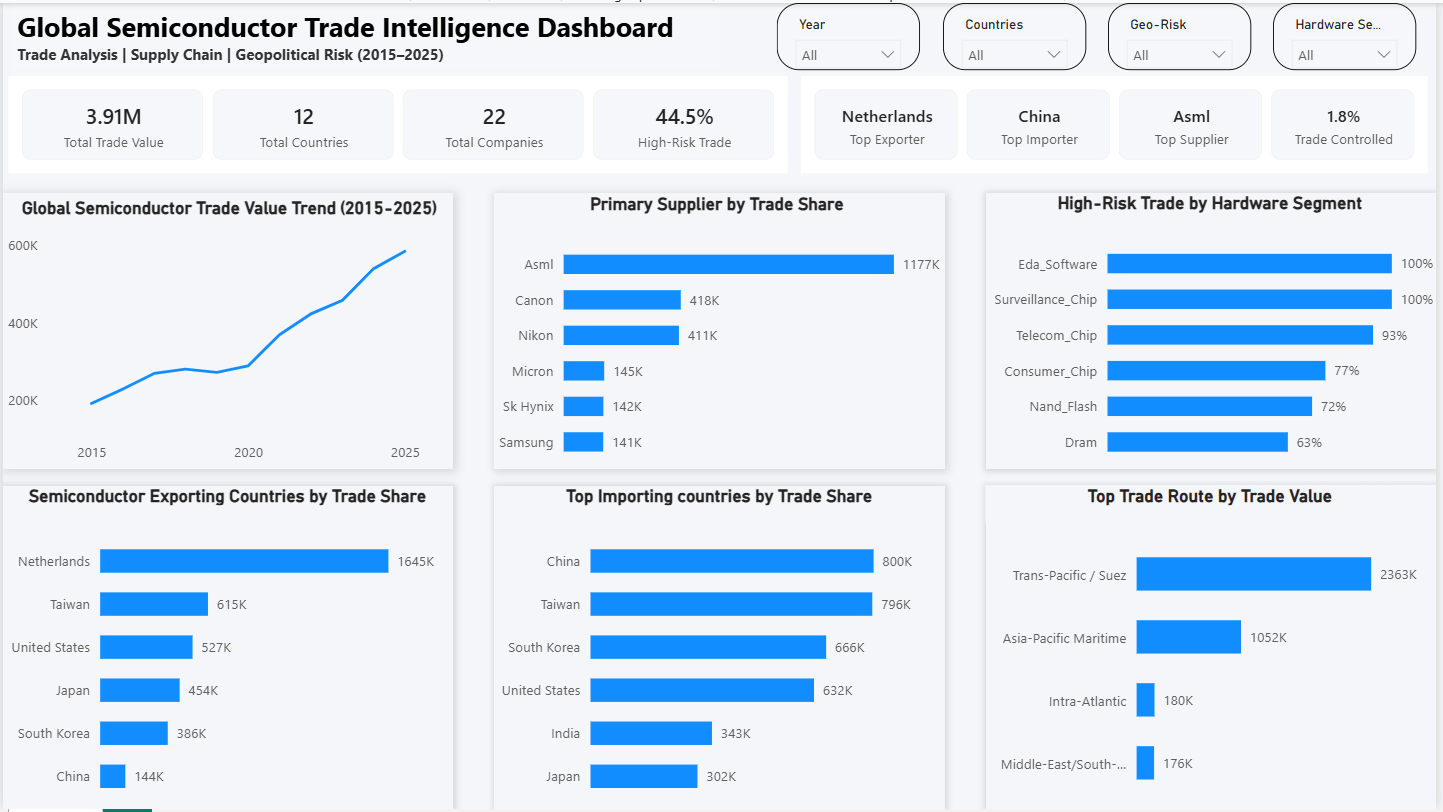

What the dashboard file says about the page in this screenshot:
{"tool":"powerbi","page":{"name":"Page 1","canvas":[1280,720],"ordinal":0},"visuals":[{"type":"textbox","box":[7.5,0,632.5,60],"z":0},{"type":"slicer","title":"Year","fields":{"Values":["Trade_Flows1.year"]},"box":[691.2,0,128,60],"z":1000},{"type":"cardVisual","fields":{"Data":["Sum(Trade_Flows1.trade_value_usd_millions)","Count(Country.exporter_country)","Count(company_profile (2).company_name)","Trade_Flows1.High_Risk"]},"box":[0,60,708.5,97.7],"z":2000},{"type":"lineChart","title":"Global Semiconductor Trade Value Trend (2015-2025)","fields":{"Y":["Sum(Trade_Flows1.trade_value_usd_millions)"],"Category":["Trade_Flows1.year"]},"box":[0,169.7,402,246],"z":3000},{"type":"slicer","title":"Year","fields":{"Values":["Country.exporter_country"]},"box":[839.2,0,128,60],"z":4000},{"type":"slicer","title":"Year","fields":{"Values":["Trade_Flows1.geopolitical_sensitivity"]},"box":[987.1,0,128,60],"z":5000},{"type":"slicer","title":"Year","fields":{"Values":["Trade_Flows1.Hardware_Segment"]},"box":[1135,0,128,60],"z":6000},{"type":"clusteredBarChart","title":"Semiconductor  Exporting Countries by Trade Share","fields":{"Category":["Trade_Flows1.exporter_country"],"Y":["Sum(Trade_Flows1.trade_value_usd_millions)"]},"box":[0,431,402,289],"z":7000},{"type":"clusteredBarChart","title":"Top Importing countries by Trade Share","fields":{"Y":["Sum(Trade_Flows1.trade_value_usd_millions)"],"Category":["Trade_Flows1.importer_country"]},"box":[439,431,402,289],"z":8000},{"type":"clusteredBarChart","title":"Primary Supplier by Trade Share","fields":{"Y":["Sum(Trade_Flows1.trade_value_usd_millions)"],"Category":["Trade_Flows1.primary_supplier"]},"box":[439,169.7,402,246],"z":9000},{"type":"clusteredBarChart","title":"High-Risk Trade by Hardware Segment","fields":{"Category":["Trade_Flows1.hardware_type"],"Y":["Trade_Flows1.High_Risk"]},"box":[878,169.7,402,246],"z":10000},{"type":"clusteredBarChart","title":"Top Trade Route by Trade Value","fields":{"Category":["Trade_Flows1.trade_route"],"Y":["Sum(Trade_Flows1.trade_value_usd_millions)"]},"box":[878,431,402,289],"z":11000},{"type":"cardVisual","title":"Key Insights","fields":{"Data":["Country.Top Exporter","Country.Top Importer","Country.Top Supplier","Trade_Flows1.Export_controlled_Trade"]},"box":[708.5,60,571.5,97.7],"z":12000}]}

Visuals, with their boxes in screenshot pixels (x1, y1, x2, y2), scaled from the page's 1280x720 canvas onto the 1443x812 screenshot:
textbox: select_region(8, 0, 722, 68)
"Year" slicer: select_region(779, 0, 924, 68)
cardVisual - Sum(Trade_Flows1.trade_value_usd_millions) x Count(Country.exporter_country): select_region(0, 68, 799, 178)
"Global Semiconductor Trade Value Trend (2015-2025)" lineChart: select_region(0, 191, 453, 469)
"Year" slicer: select_region(946, 0, 1090, 68)
"Year" slicer: select_region(1113, 0, 1257, 68)
"Year" slicer: select_region(1280, 0, 1424, 68)
"Semiconductor  Exporting Countries by Trade Share" clusteredBarChart: select_region(0, 486, 453, 811)
"Top Importing countries by Trade Share" clusteredBarChart: select_region(495, 486, 948, 811)
"Primary Supplier by Trade Share" clusteredBarChart: select_region(495, 191, 948, 469)
"High-Risk Trade by Hardware Segment" clusteredBarChart: select_region(990, 191, 1442, 469)
"Top Trade Route by Trade Value" clusteredBarChart: select_region(990, 486, 1442, 811)
"Key Insights" cardVisual: select_region(799, 68, 1442, 178)
